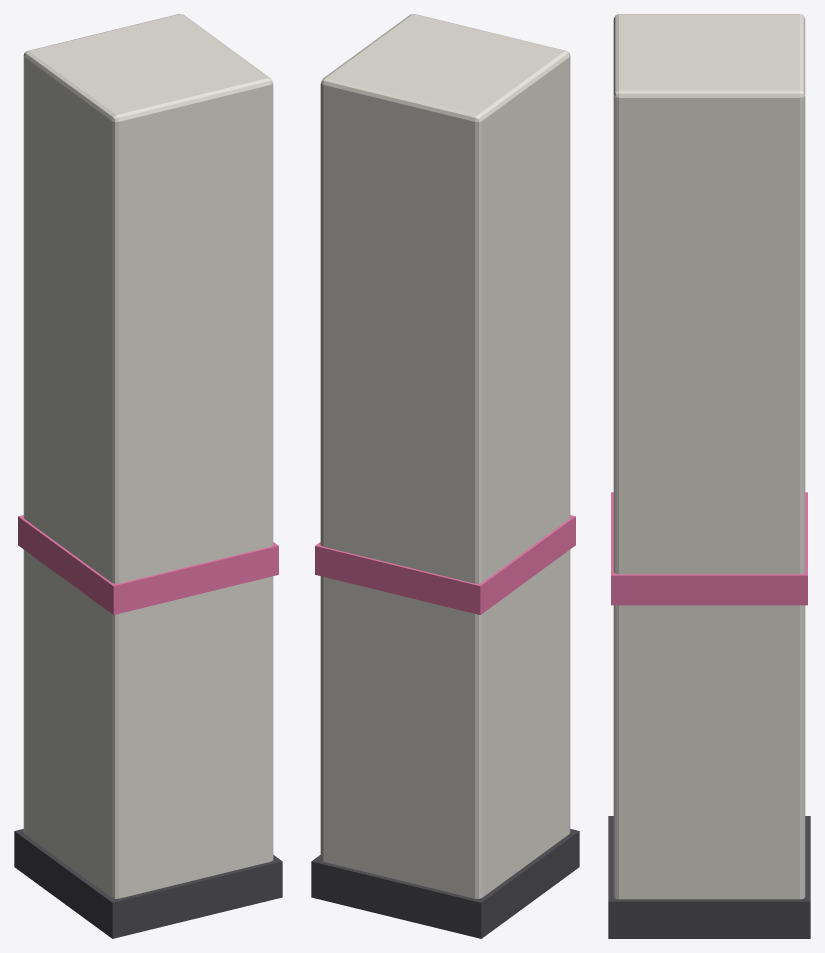
File: pillar.gltf
3 renders of one model, left to right at view 1: azimuth 30°, elevation 25°; view 2: azimuth 150°, elevation 25°; view 3: azimuth 270°, elevation 25°, orthographic. The views are drawn at different scales.
Visible parts, largest first — view 1: Shaft, Skirt, Band; view 2: Shaft, Skirt, Band; view 3: Shaft, Skirt, Band.
Part boxes in pixels (x1=…): Shaft: x1=23, y1=14, x2=273, y2=898; Skirt: x1=14, y1=829, x2=282, y2=938; Band: x1=18, y1=515, x2=278, y2=614; Shaft: x1=320, y1=14, x2=570, y2=898; Skirt: x1=311, y1=829, x2=579, y2=938; Band: x1=315, y1=515, x2=575, y2=614; Shaft: x1=613, y1=14, x2=805, y2=899; Skirt: x1=608, y1=816, x2=810, y2=938; Band: x1=611, y1=492, x2=807, y2=605.
Bounding box in the file's own units: 0.74 × 3.4 × 0.74.
